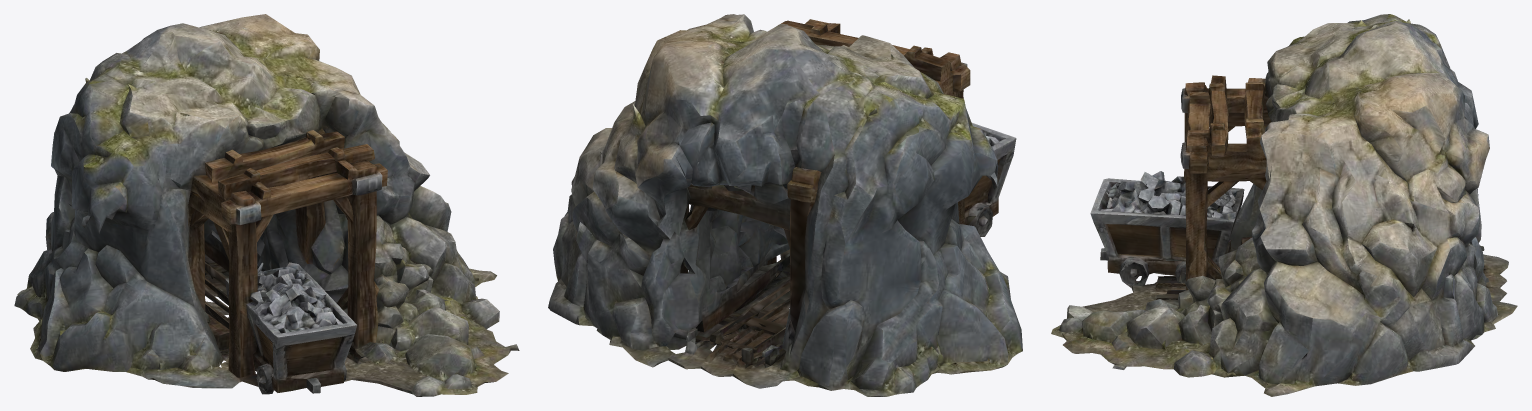
File: mine.glb
3 renders of one model, left to right at view 1: azimuth 30°, elevation 25°; view 2: azimuth 150°, elevation 25°; view 3: azimuth 270°, elevation 25°, orthographic. The views are drawn at different scales.
Parts seen in each view (by area): view 1: mine; view 2: mine; view 3: mine.
Boxes of the visible parts, x1=… form: mine: x1=14, y1=14, x2=519, y2=396; mine: x1=548, y1=14, x2=1022, y2=396; mine: x1=1051, y1=14, x2=1517, y2=396.
Size of the model in its own units: 1.59 by 0.9633 by 1.57.
1 material, 1 textured.
